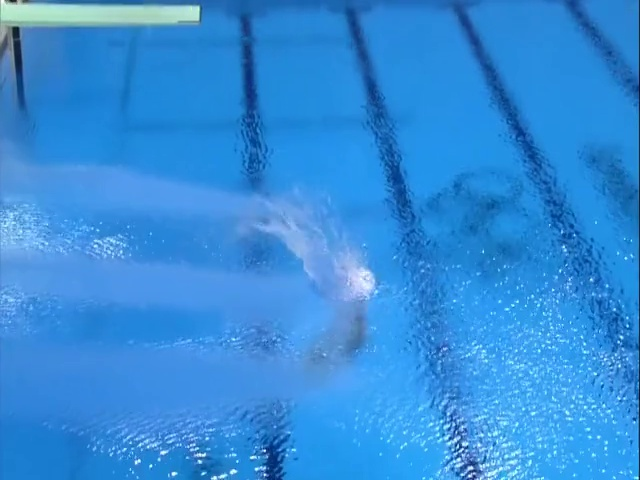splash: (247, 184, 378, 303)
